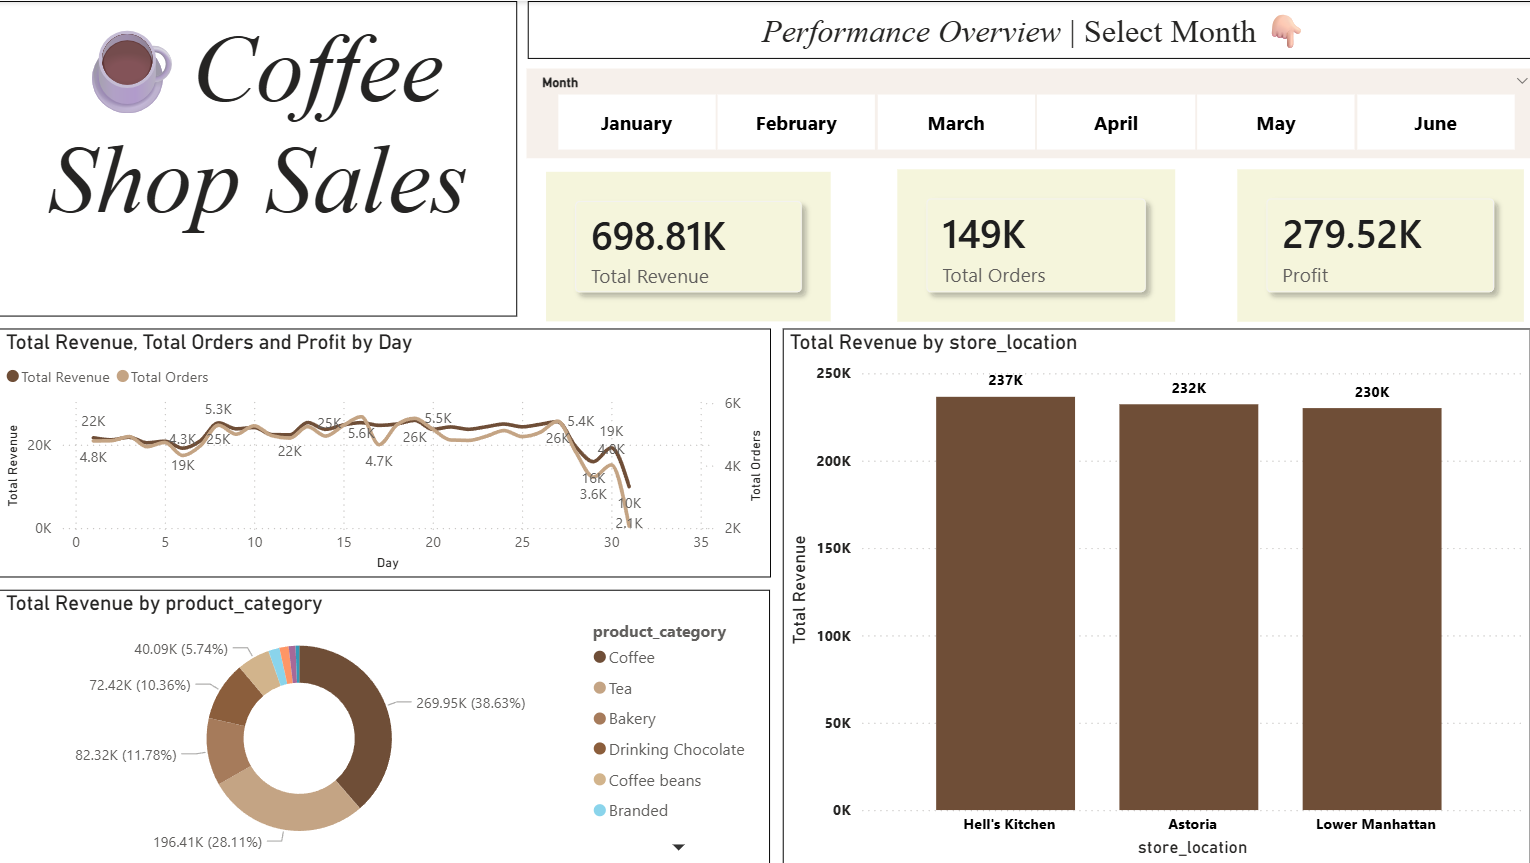

The dashboard page shown, as its layout file describes it:
{"tool":"powerbi","page":{"name":"Page 1","canvas":[1280,720],"ordinal":0},"visuals":[{"type":"slicer","fields":{"Values":["CoffeeShopSales_cleaned.Month"]},"box":[437.2,55.8,843,74.4],"z":0},{"type":"textbox","box":[0,0,429.9,261.3],"z":1000},{"type":"cardVisual","fields":{"Data":["CoffeeShopSales_cleaned.Profit"]},"box":[1022.1,134.9,247.7,136],"z":3000},{"type":"cardVisual","fields":{"Data":["CoffeeShopSales_cleaned.Total Orders"]},"box":[739.5,134.9,240.7,136],"z":4000},{"type":"cardVisual","fields":{"Data":["CoffeeShopSales_cleaned.Total Revenue"]},"box":[448.8,137.2,246.5,134.9],"z":5000},{"type":"lineChart","fields":{"Category":["CoffeeShopSales_cleaned.transaction_date.Variation.Date Hierarchy.Day"],"Y":["CoffeeShopSales_cleaned.Total Revenue"],"Y2":["CoffeeShopSales_cleaned.Total Orders"]},"box":[0,271.3,639.8,206.6],"z":6000},{"type":"donutChart","fields":{"Category":["CoffeeShopSales_cleaned.product_category"],"Y":["CoffeeShopSales_cleaned.Total Revenue"]},"box":[0,488.4,639.5,227.9],"z":7000},{"type":"clusteredColumnChart","fields":{"Y":["CoffeeShopSales_cleaned.Total Revenue"],"Category":["CoffeeShopSales_cleaned.store_location"]},"box":[649.9,271.3,619.7,444.4],"z":8000},{"type":"textbox","box":[438.4,0,841.9,47.7],"z":9000}]}

Visuals, with their boxes in screenshot pixels (x1, y1, x2, y2), scaled from the page's 1280x720 canvas onto the 1530x863 screenshot:
slicer - CoffeeShopSales_cleaned.Month: (523,67,1529,156)
textbox: (0,0,514,313)
cardVisual - CoffeeShopSales_cleaned.Profit: (1222,162,1518,325)
cardVisual - CoffeeShopSales_cleaned.Total Orders: (884,162,1172,325)
cardVisual - CoffeeShopSales_cleaned.Total Revenue: (536,164,831,326)
lineChart - CoffeeShopSales_cleaned.transaction_date.Variation.Date Hierarchy.Day x CoffeeShopSales_cleaned.Total Revenue: (0,325,765,573)
donutChart - CoffeeShopSales_cleaned.product_category x CoffeeShopSales_cleaned.Total Revenue: (0,585,764,859)
clusteredColumnChart - CoffeeShopSales_cleaned.Total Revenue x CoffeeShopSales_cleaned.store_location: (777,325,1518,858)
textbox: (524,0,1529,57)
